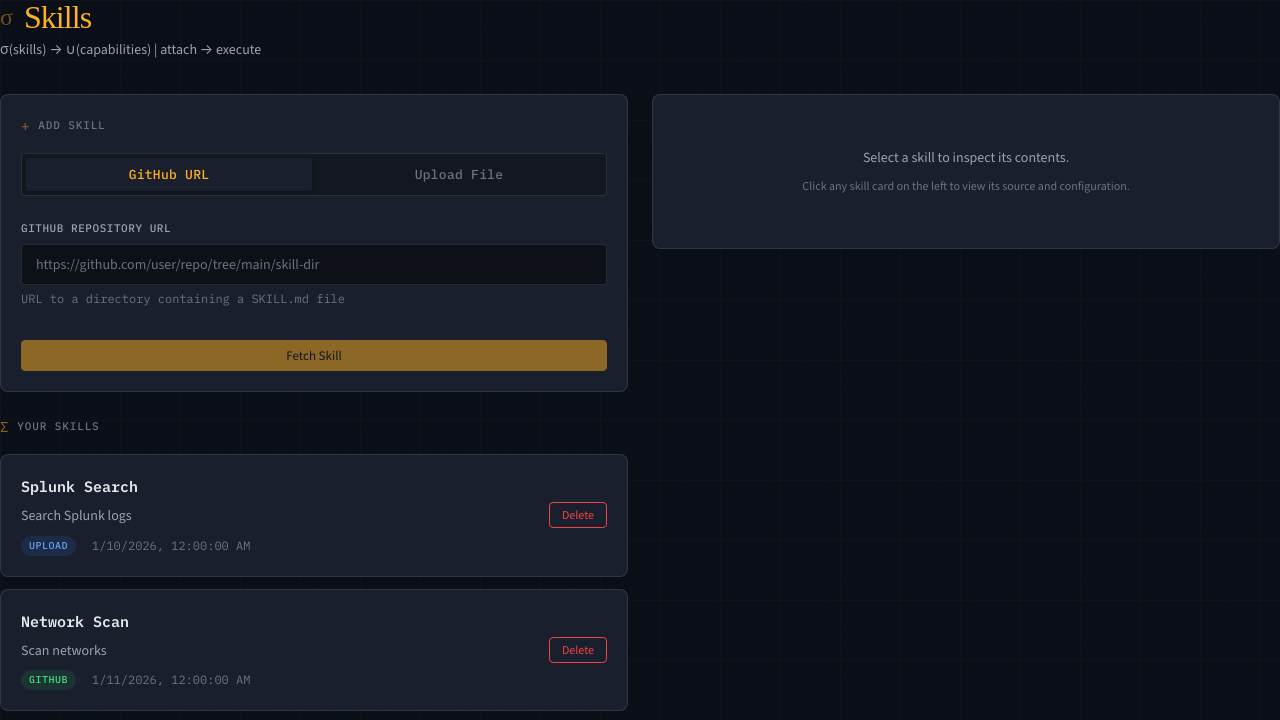
Test: Skills page › shows confirm dialog on delete click
Check: the heading "Splunk Search" is shown, box top-left (21, 477), bottom-right (138, 496)
What coordinates should you click on to do the following:
click the 1st button "Delete"
I would click on:
 (578, 515)
Its box is top-left (549, 502), bottom-right (607, 528).
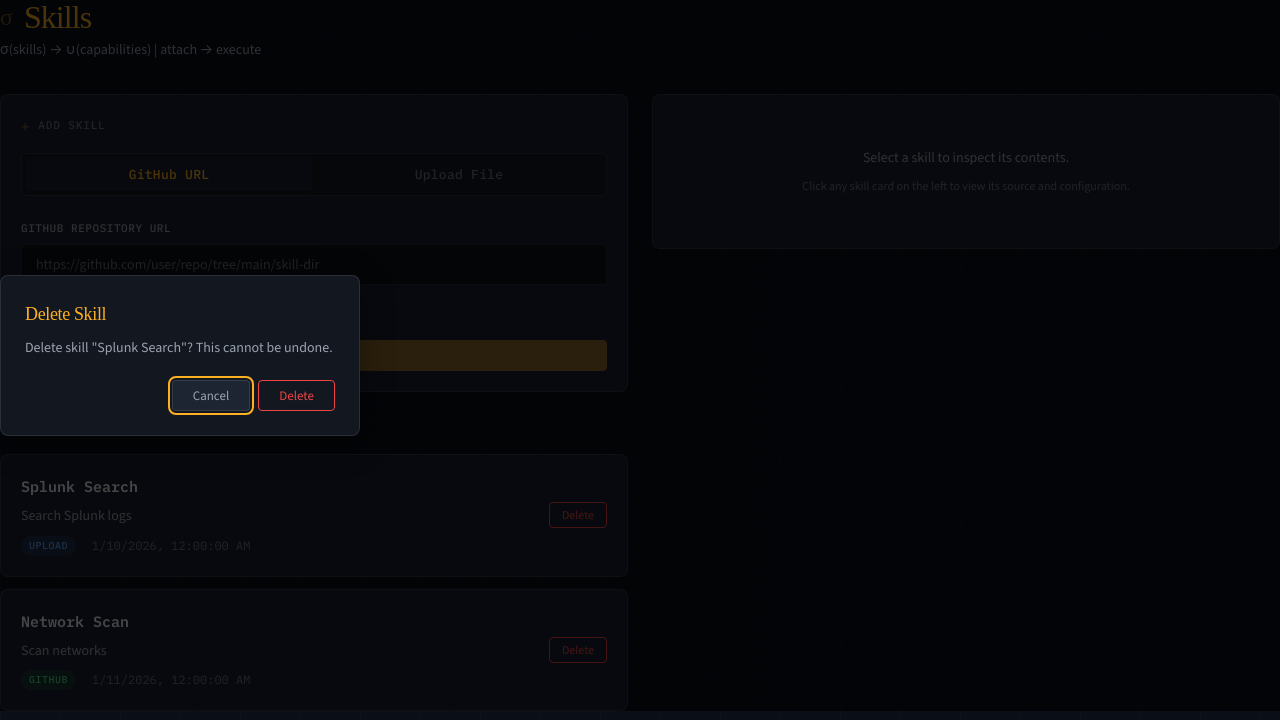
Check: the text "Delete Skill" is shown, box top-left (25, 304), bottom-right (106, 324)
